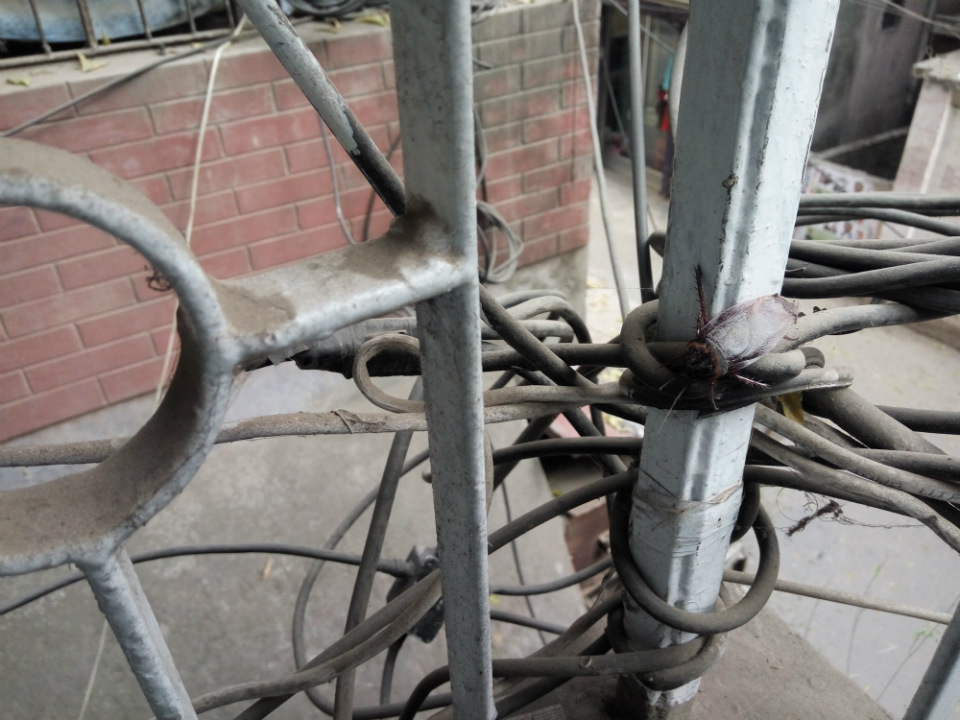cockroach: (628, 208, 834, 420)
